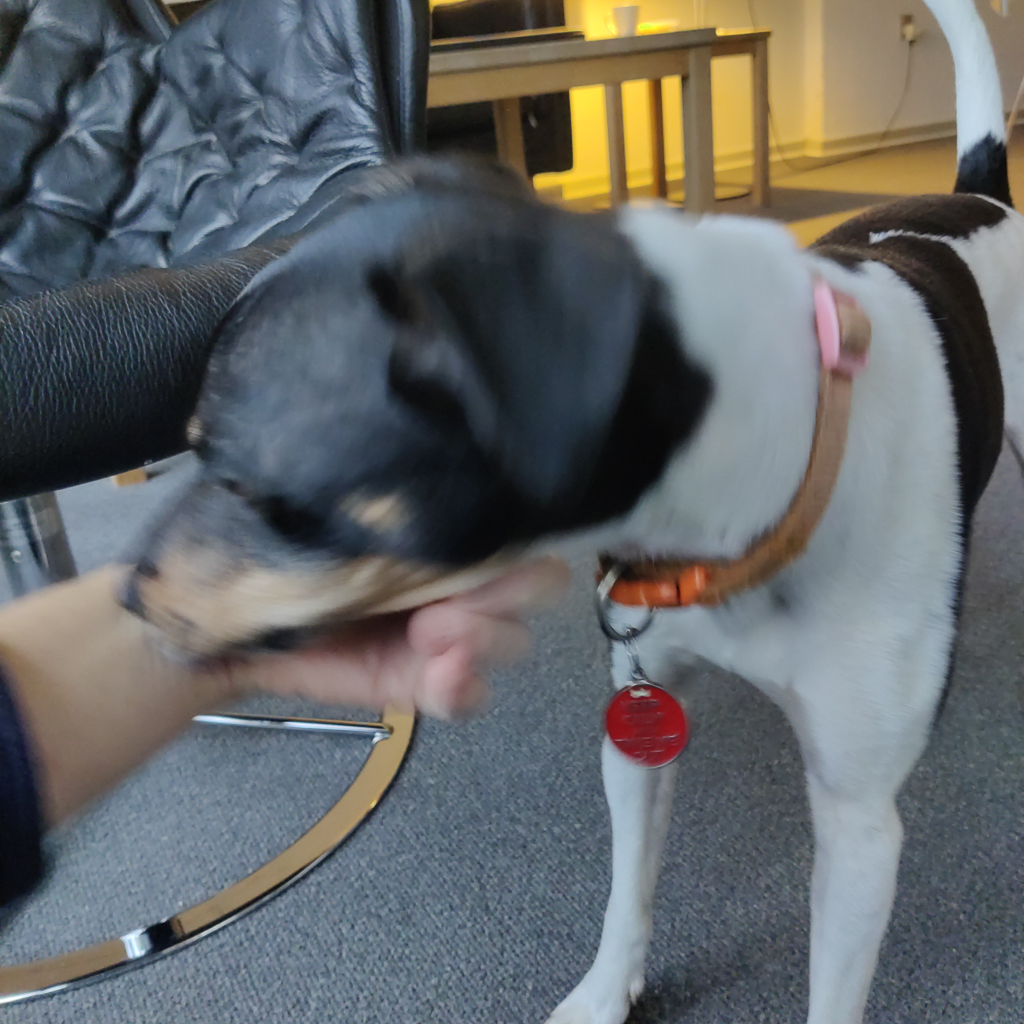Dog: (121, 0, 1024, 1024)
Humanoid: (0, 501, 599, 956)
